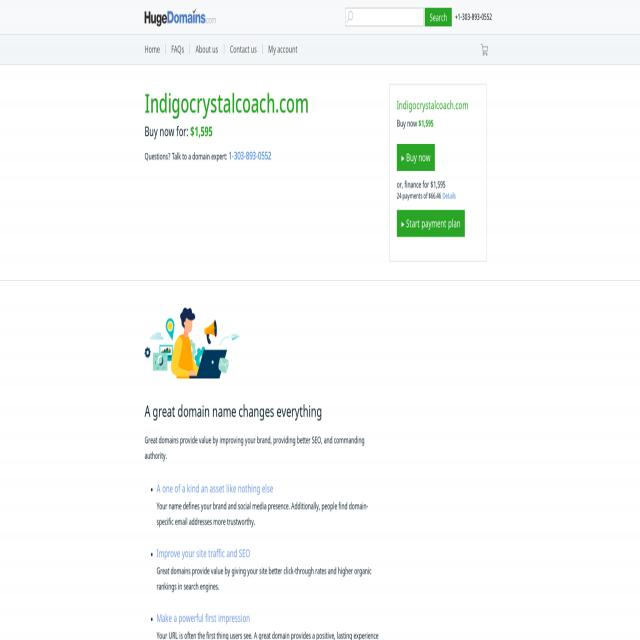button: (144, 307, 240, 378), (397, 210, 465, 237), (144, 7, 216, 27), (397, 144, 435, 171), (262, 40, 304, 60), (224, 40, 262, 60), (190, 40, 224, 60), (424, 7, 452, 27), (166, 40, 190, 60), (144, 40, 166, 60), (479, 41, 491, 60)
field: (345, 7, 423, 27)
